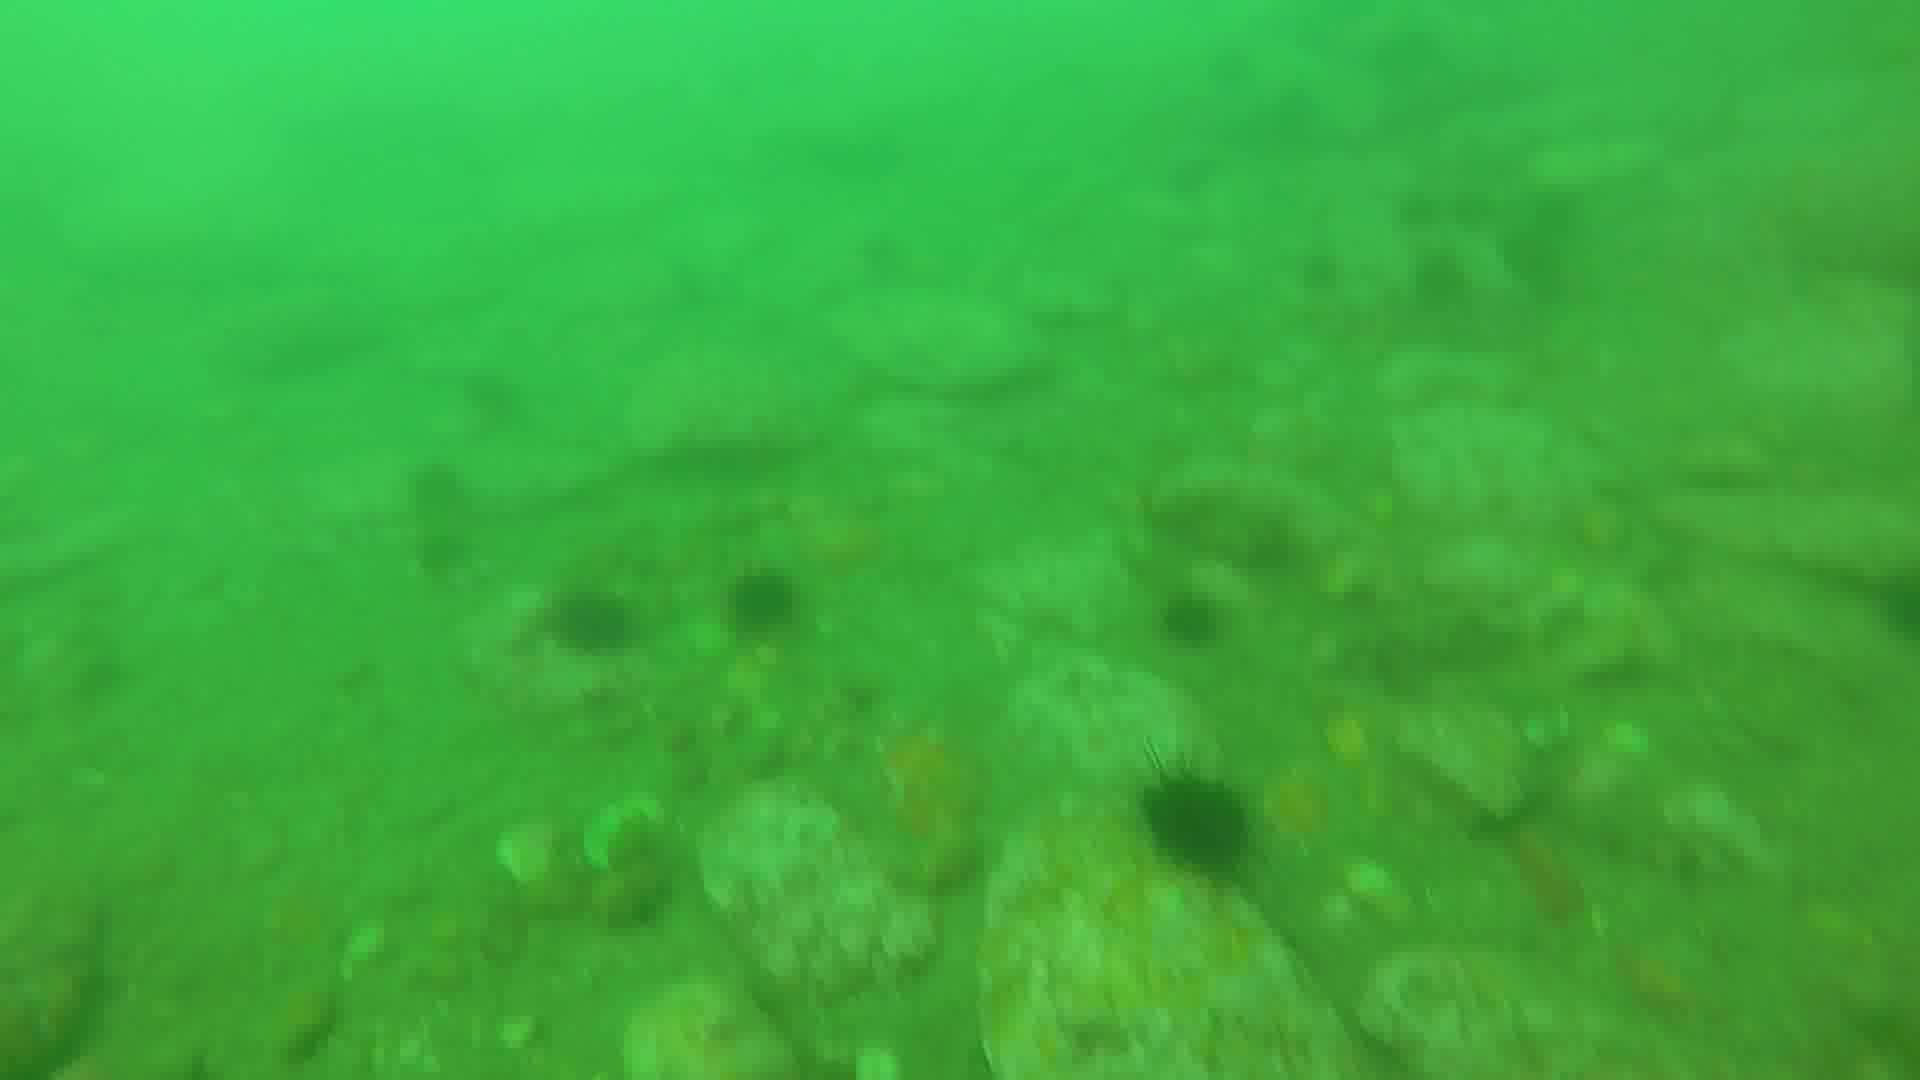echinus: (1138, 762, 1255, 889), (550, 585, 634, 659), (723, 563, 799, 640), (1164, 585, 1226, 640)
